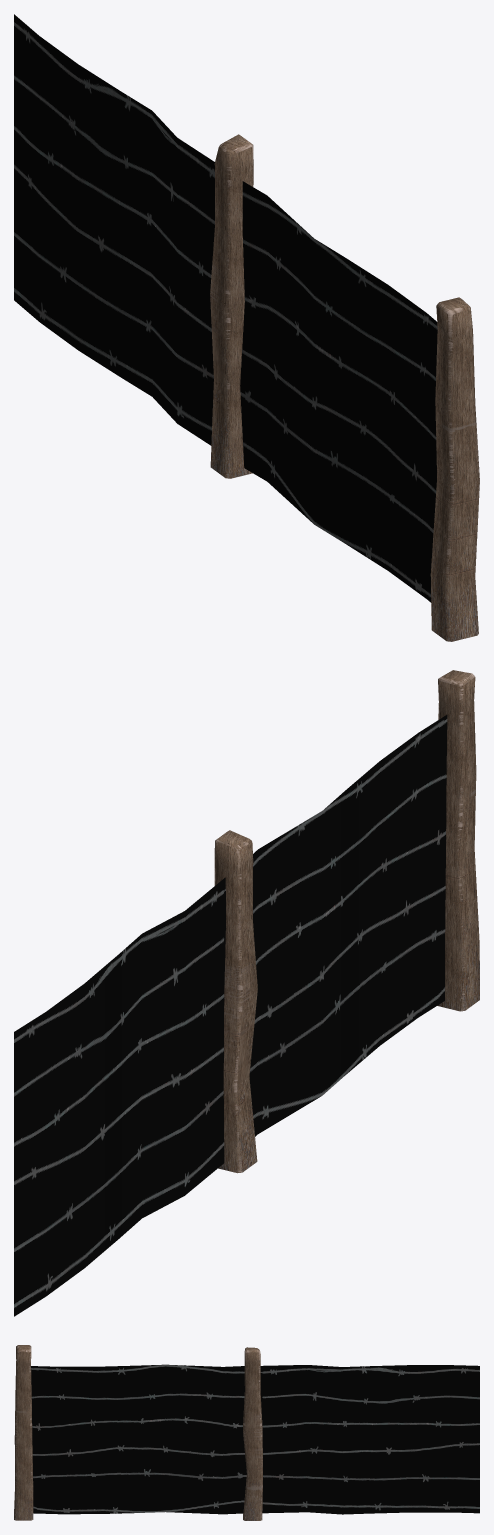
File: wire_fence.obj
The picture shows the model from 3 angles, top to bottom: view 1: azimuth 30°, elevation 25°; view 2: azimuth 150°, elevation 25°; view 3: azimuth 270°, elevation 25°; orthographic projection. The views are drawn at different scales.
Visible parts, largest first — view 1: obj1, obj2; view 2: obj1, obj2; view 3: obj1, obj2.
Part boxes in pixels (x1,y1,x2,y2): obj1: [14, 14, 437, 602]; obj2: [210, 134, 479, 641]; obj1: [14, 715, 447, 1316]; obj2: [214, 670, 479, 1173]; obj1: [31, 1364, 479, 1514]; obj2: [14, 1345, 262, 1520].
Size of the model in its own units: 0.1801 by 1.62 by 4.04.
2 materials, 2 textured.
